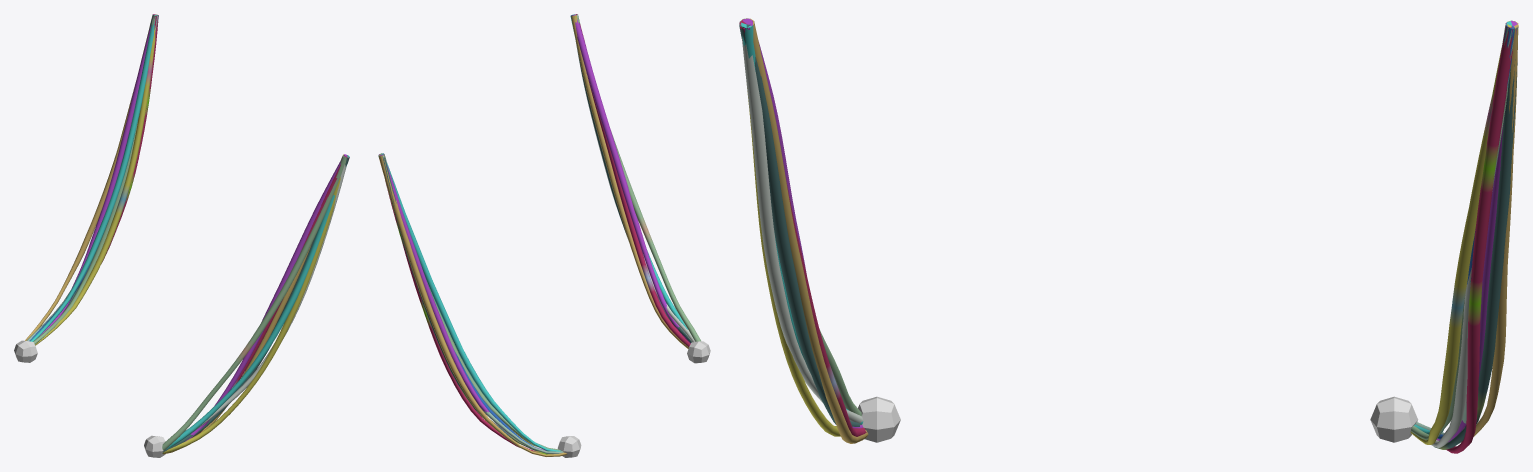
Rendered from Cables_001.fbx.
The picture shows the model from 3 angles, left to right: view 1: azimuth 30°, elevation 25°; view 2: azimuth 150°, elevation 25°; view 3: azimuth 270°, elevation 25°; orthographic projection. The views are drawn at different scales.
Parts seen in each view (by area): view 1: Cube; view 2: Cube; view 3: Cube.
Part boxes in pixels (x1,y1,x2,y2): Cube: (14,14,349,457); Cube: (378,14,710,457); Cube: (739,18,1518,453).
Bounding box in the file's own units: 1390 × 2221 × 2732.
